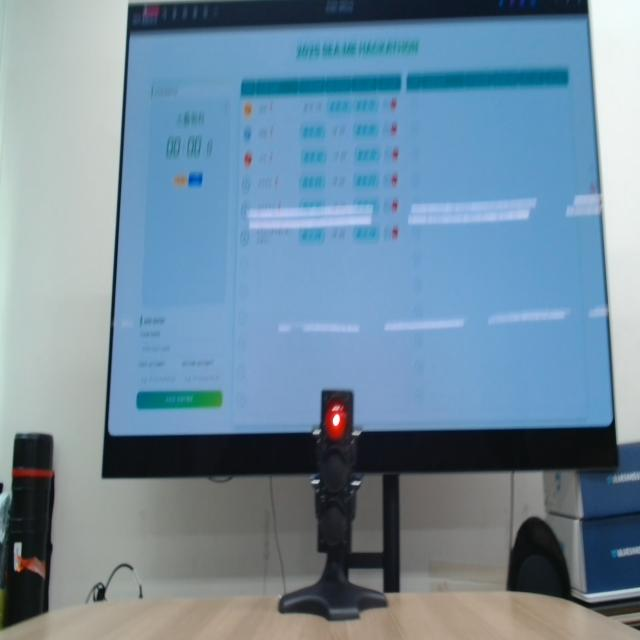red_light: (325, 403, 347, 440)
